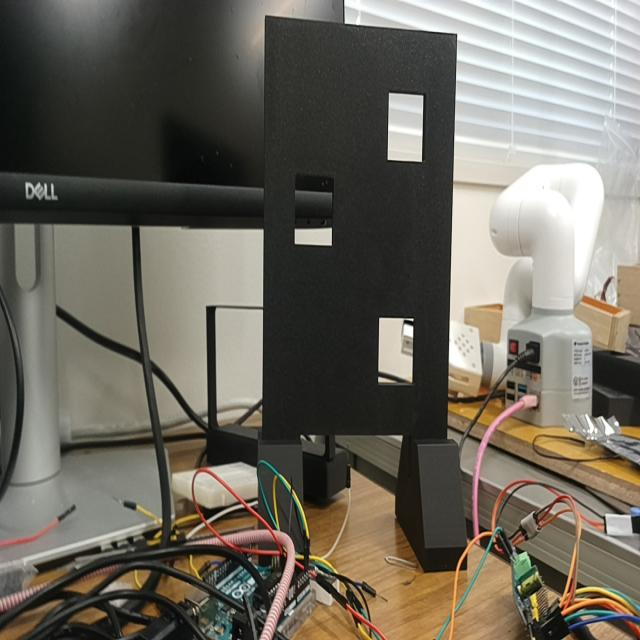Obstacle: (294, 170, 334, 244), (379, 316, 414, 386), (388, 92, 423, 161)
Wall: (263, 15, 458, 432)
